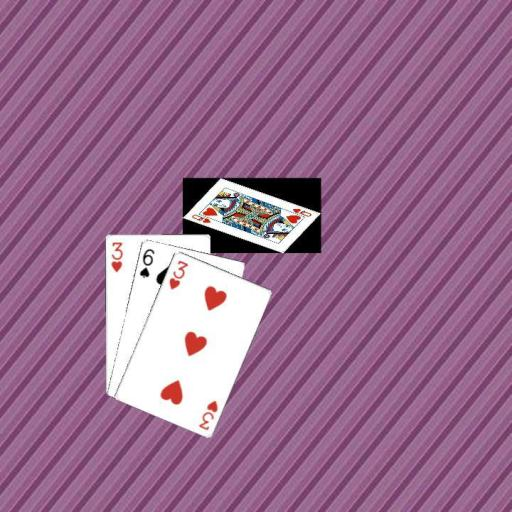3H: (196, 397, 219, 432), (166, 257, 189, 291), (108, 239, 124, 273)
6S: (136, 246, 156, 280)
